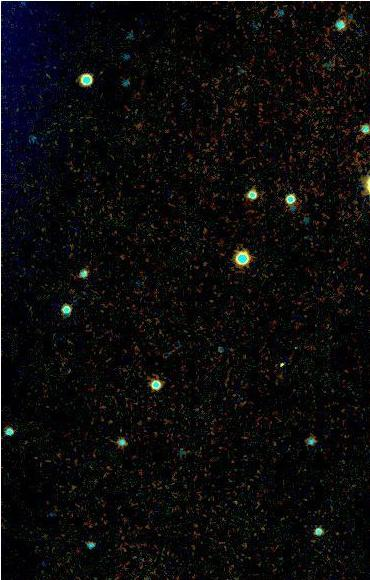star: (266, 351, 296, 381)
